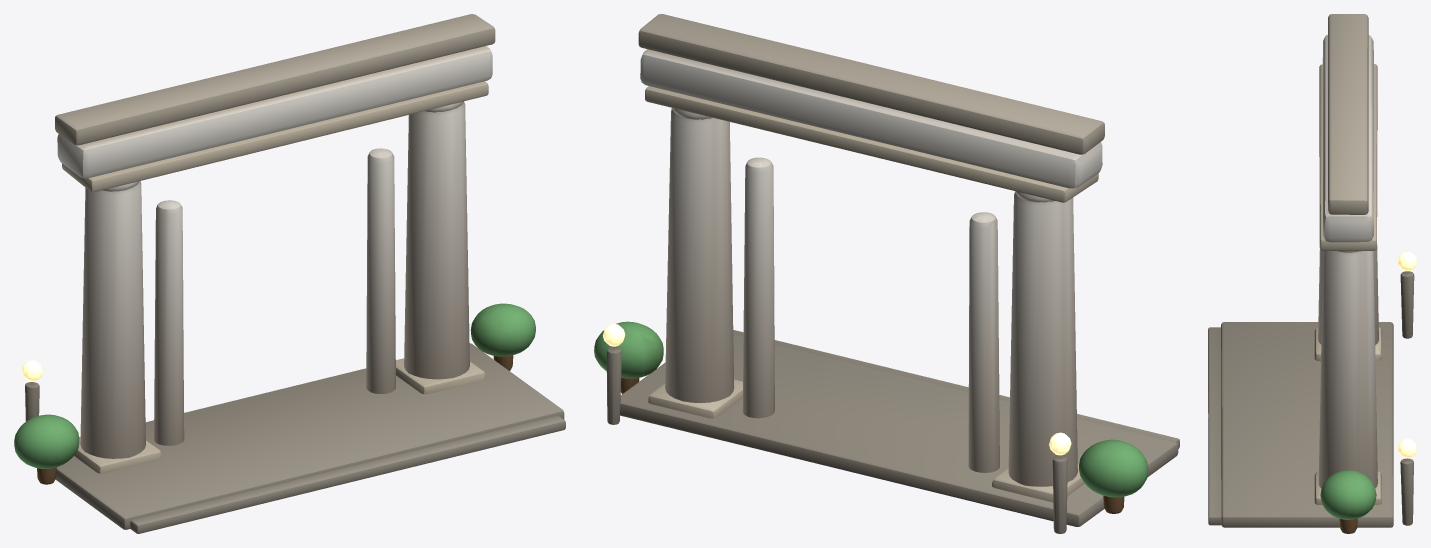
3 renders of one model, left to right at view 1: azimuth 30°, elevation 25°; view 2: azimuth 150°, elevation 25°; view 3: azimuth 270°, elevation 25°, orthographic. The views are drawn at different scales.
Visible parts, largest first — view 1: gate_a54f9266; view 2: gate_a54f9266; view 3: gate_a54f9266.
Part boxes in pixels (x1=…): gate_a54f9266: x1=14, y1=14, x2=565, y2=533; gate_a54f9266: x1=594, y1=14, x2=1179, y2=533; gate_a54f9266: x1=1208, y1=14, x2=1416, y2=533.
Size of the model in its own units: 6.61 by 4.37 by 2.54.
